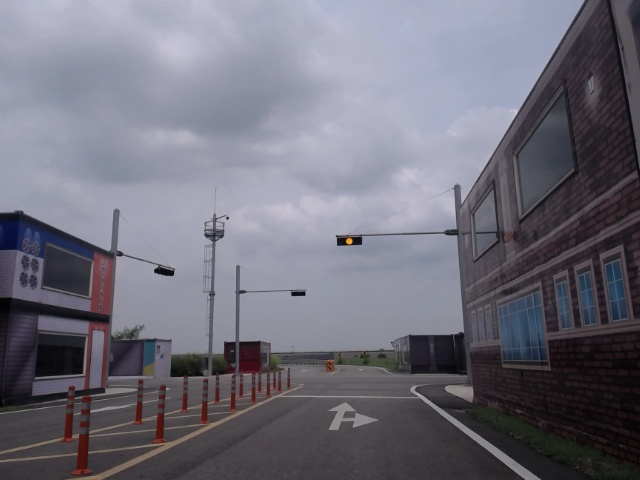orange_3: (337, 235, 362, 247)
